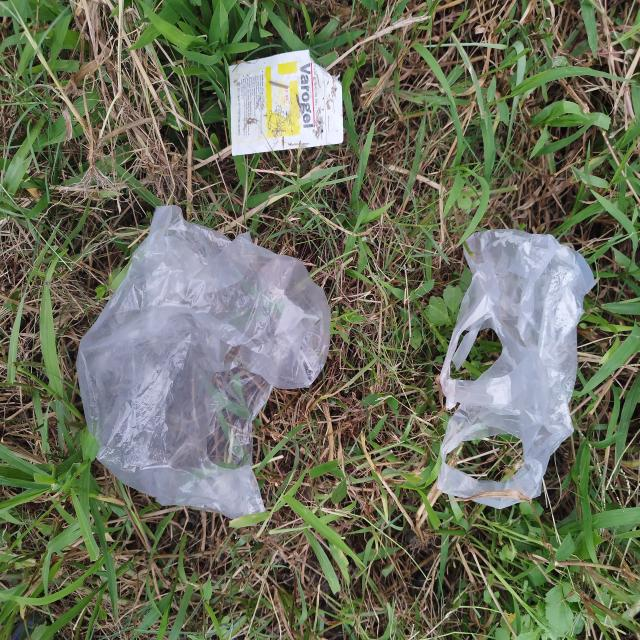bag: (76, 205, 330, 520), (438, 228, 596, 509)
packet: (230, 49, 344, 157)
